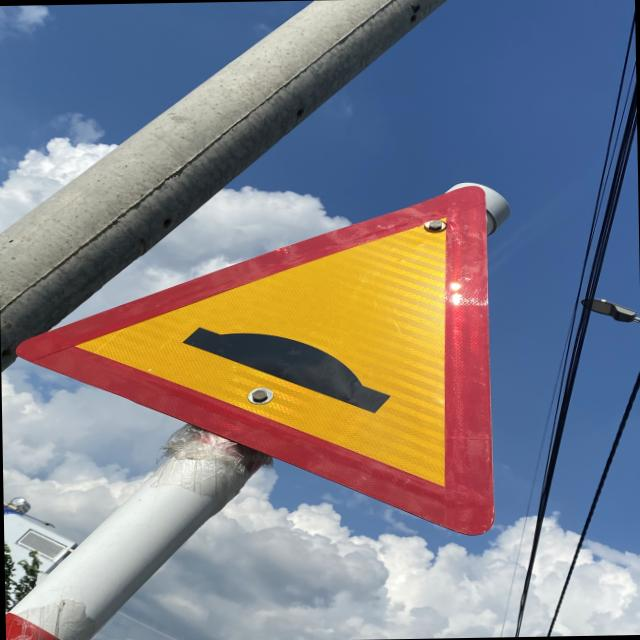Duong_Cong_Ben_Phai: (12, 185, 494, 542)
